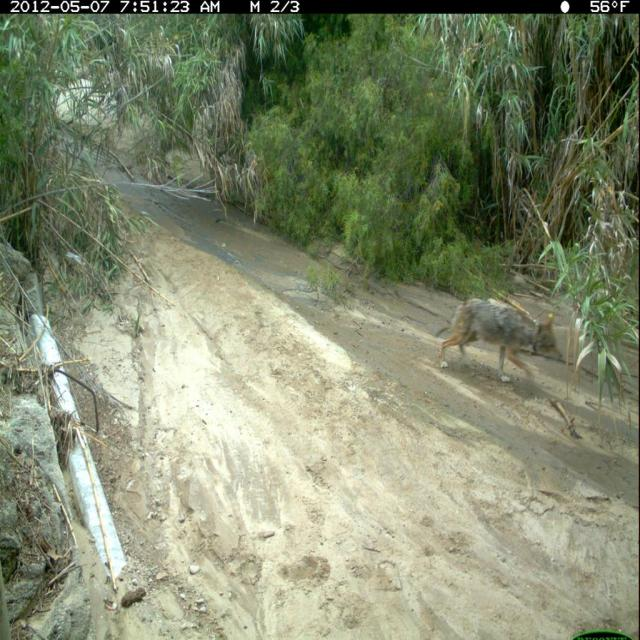coyote: (435, 295, 566, 389)
